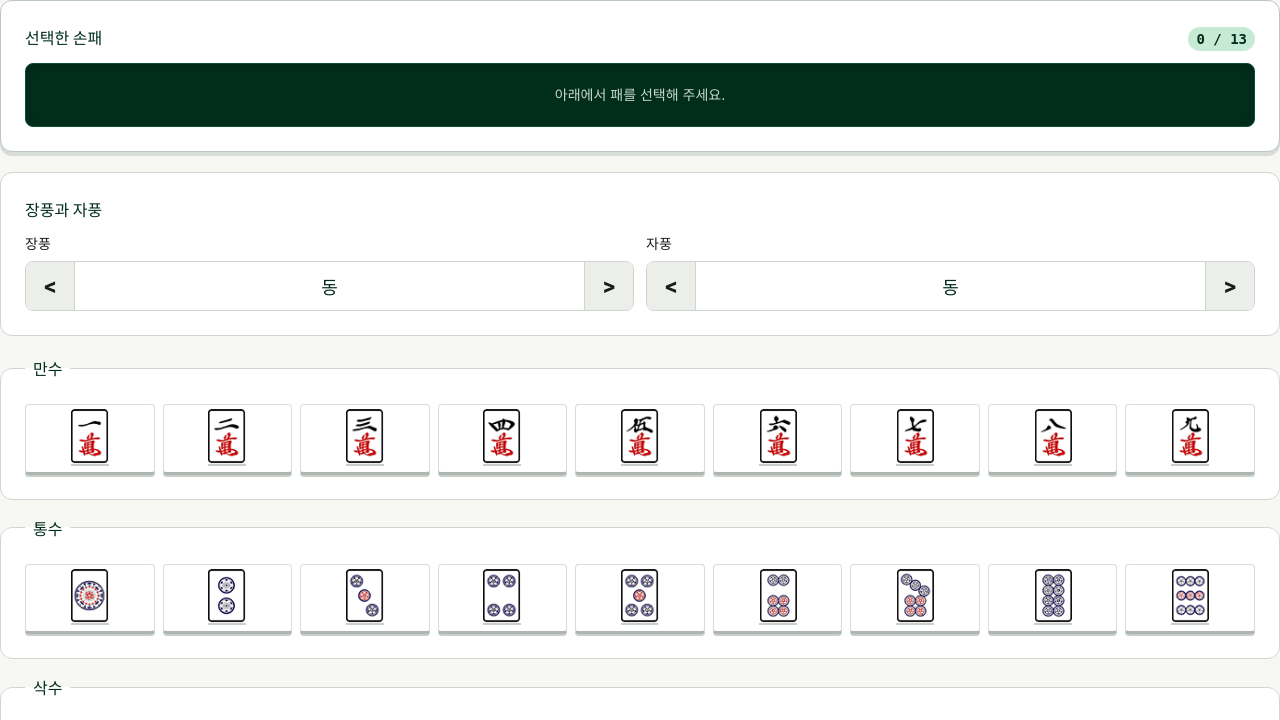
손패 선택 기능 › 장풍과 자풍을 동풍으로 시작하고 이전·다음 버튼으로 독립적으로 순환한다
Expected: the text named "장풍 현재 값" reads "동", [321,277,338,298]
Expected: the text named "자풍 현재 값" reads "동", [942,277,959,298]
Click the button named "1만 추가": [90, 439] box [25,404,154,475]
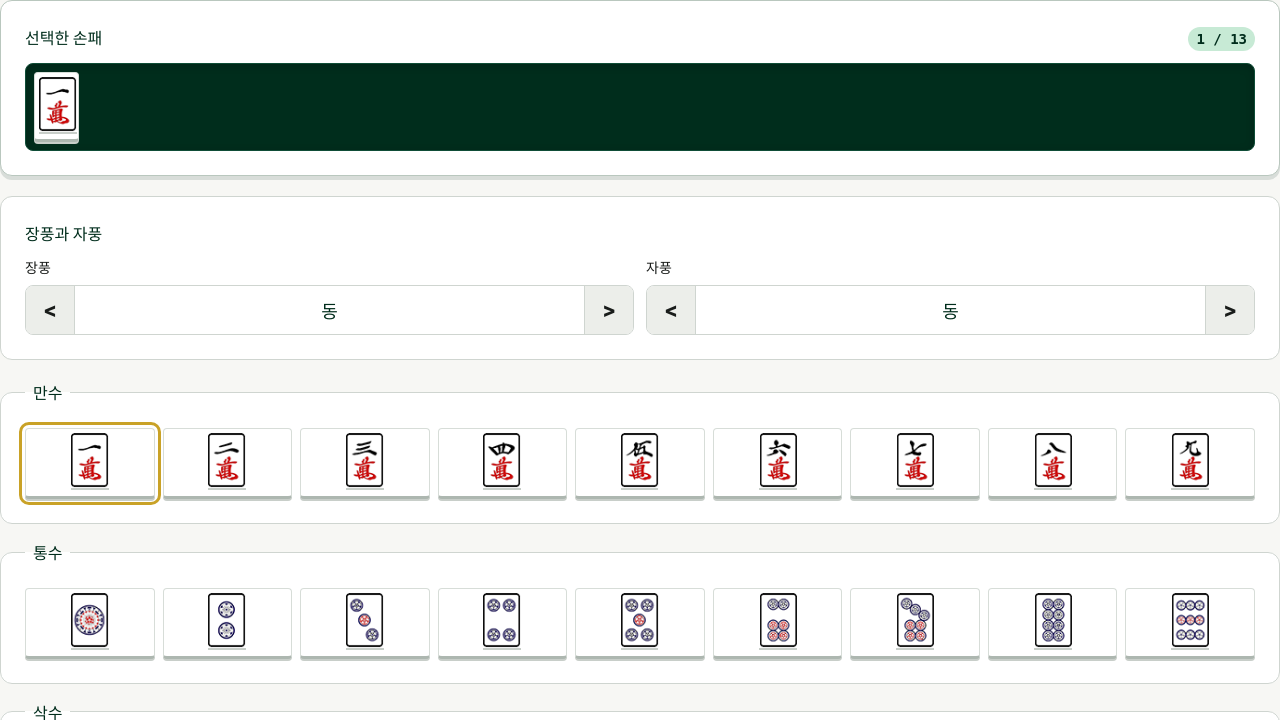
Click the button named "장풍 이전": [50, 310] box [26,286,74,334]
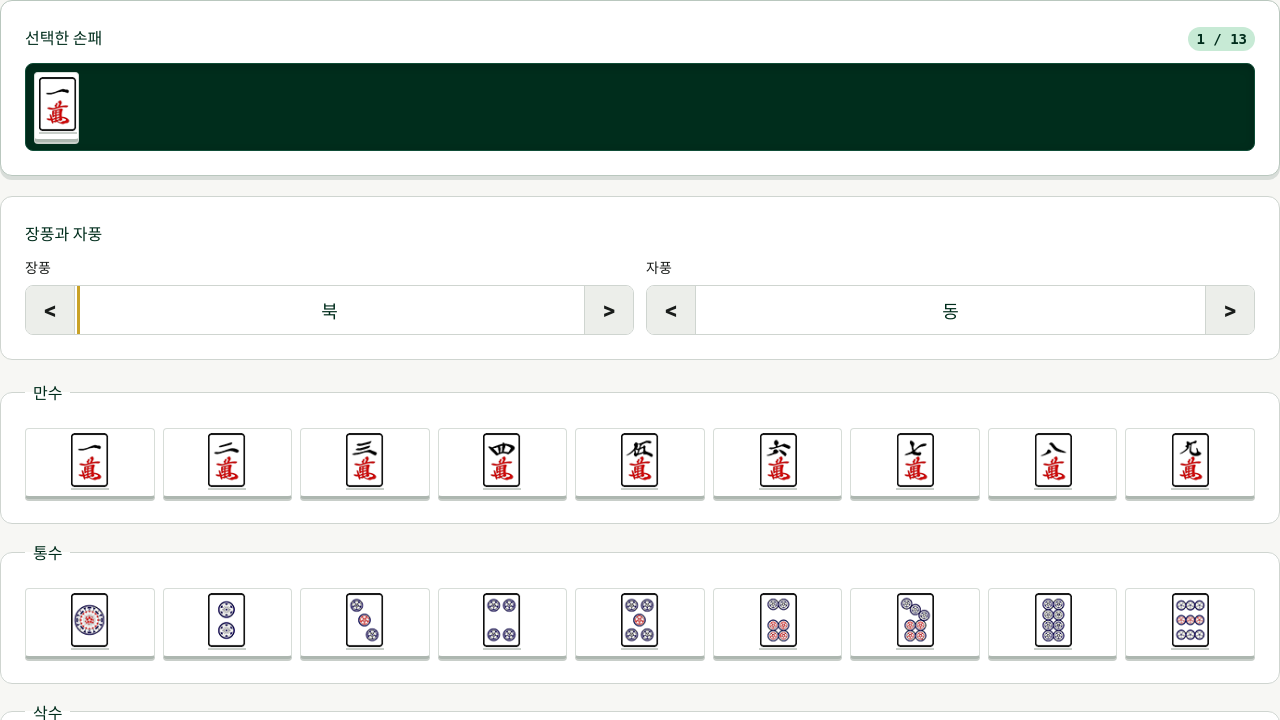
Click the button named "자풍 다음": [1230, 310] box [1206,286,1254,334]
(page scrolled)
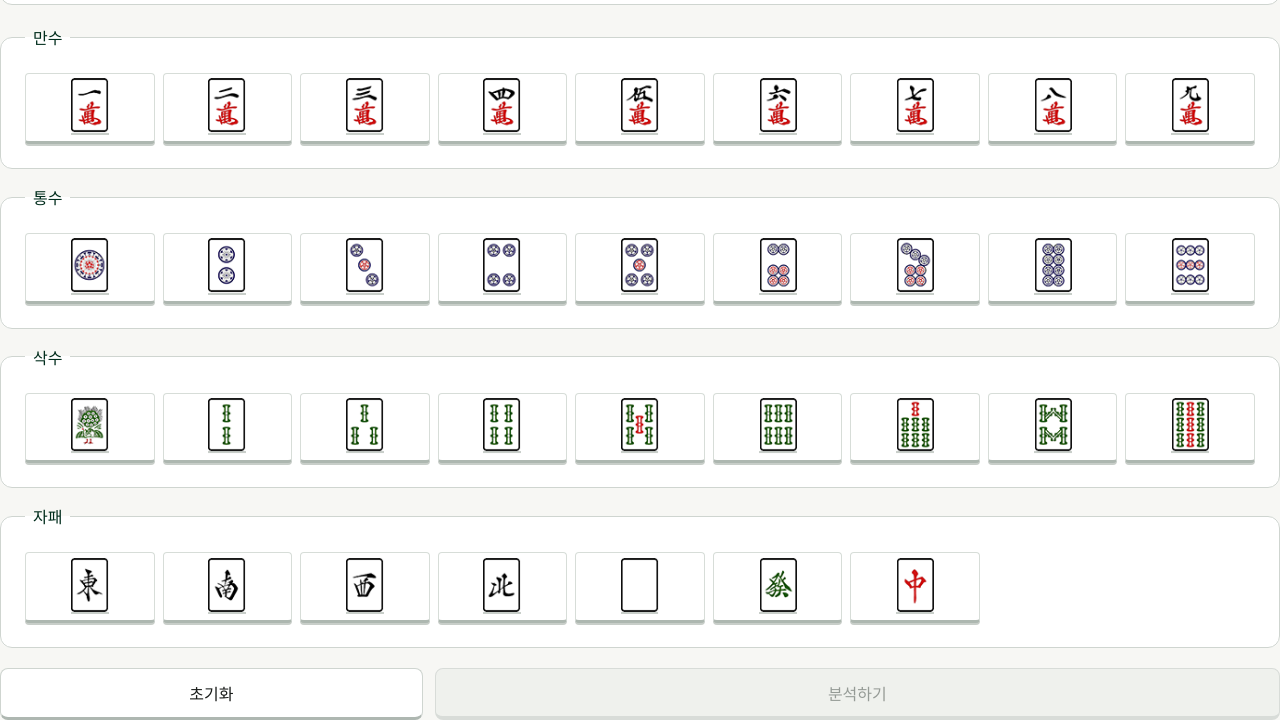
Click the button "초기화": [211, 694] box [0,668,423,719]
(page scrolled)
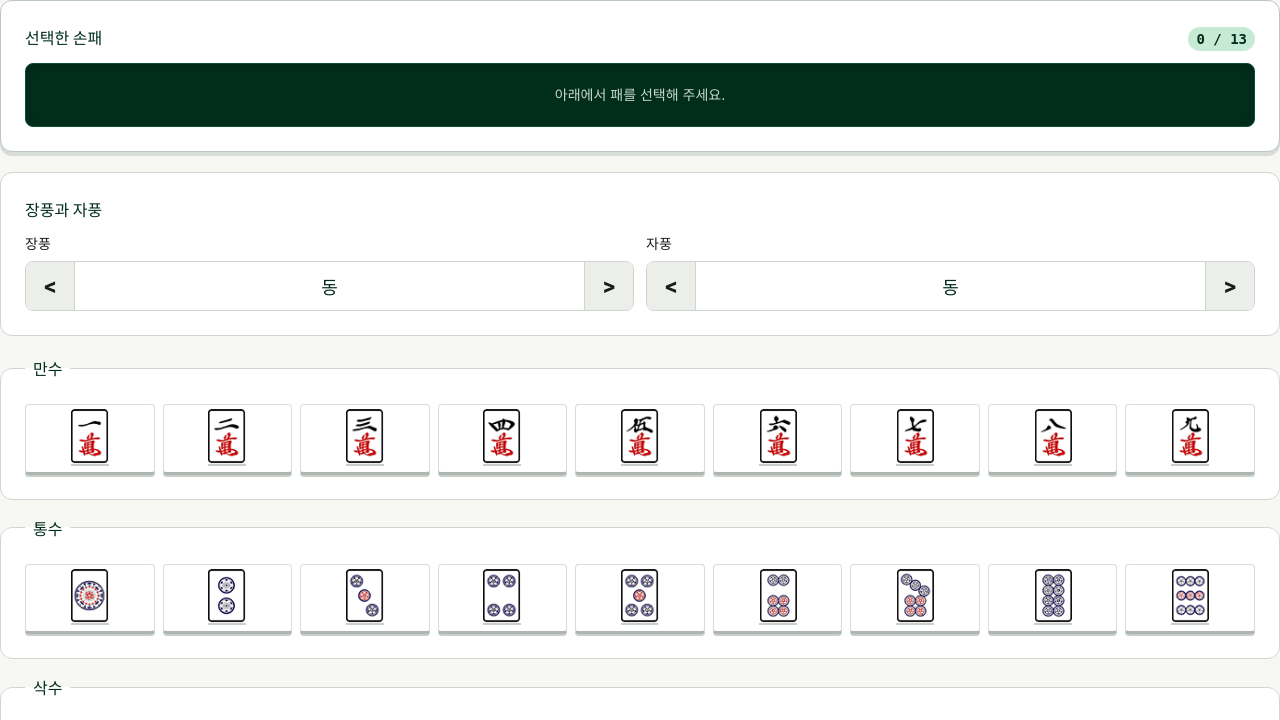
Expected: the text "0 / 13" is shown, [1188,27,1255,51]
Expected: the text named "장풍 현재 값" reads "동", [321,277,338,298]
Expected: the text named "자풍 현재 값" reads "동", [942,277,959,298]
